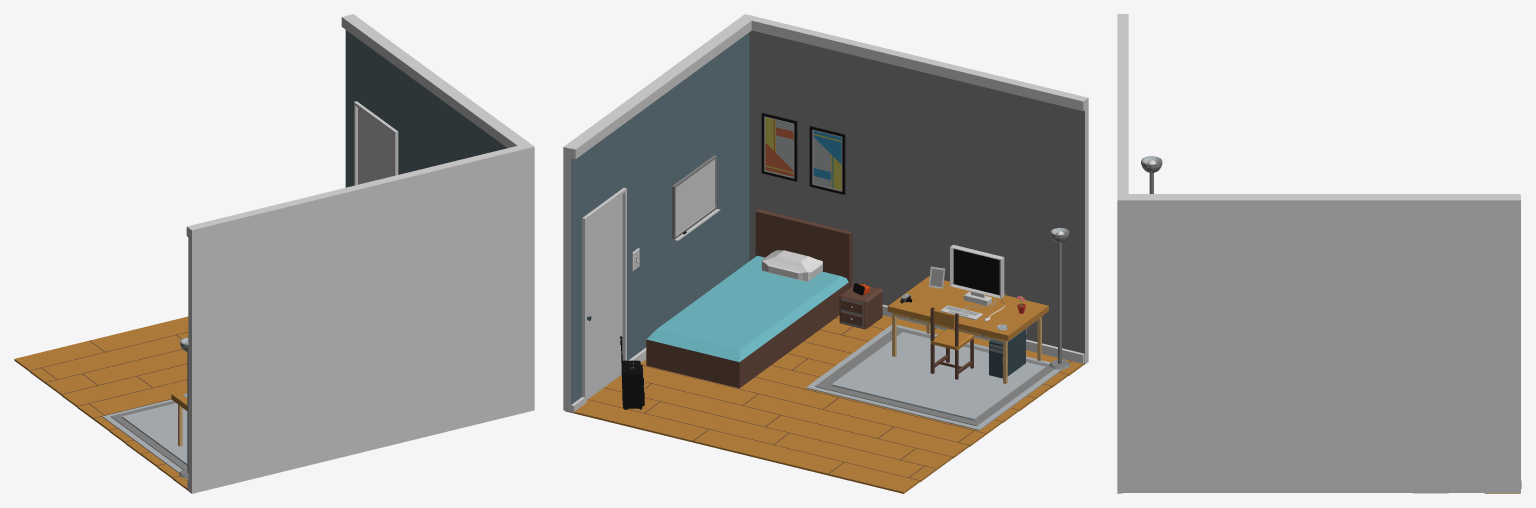
Rendered from room.glb.
3 views of the same model, side by side, from view 1: azimuth 30°, elevation 25°; view 2: azimuth 150°, elevation 25°; view 3: azimuth 270°, elevation 25° (orthographic). The views are drawn at different scales.
Parts seen in each view (by area): view 1: node_MeshObject-590880576-PolyPaper22, node_MeshObject-406843712-PolyPaper23, node_MeshObject-434685888-PolyPaper23; view 2: node_MeshObject-590880576-PolyPaper22, node_MeshObject-406843712-PolyPaper23, node_MeshObject-434685888-PolyPaper23, node_MeshObject111876352-PolyPaper22, node_MeshObject-519227392-PolyGlass24; view 3: node_MeshObject-590880576-PolyPaper22, node_MeshObject-406843712-PolyPaper23.
Part boxes in pixels (bbox=[...]): node_MeshObject-590880576-PolyPaper22: bbox=[188, 14, 534, 493]; node_MeshObject-406843712-PolyPaper23: bbox=[14, 16, 523, 490]; node_MeshObject-434685888-PolyPaper23: bbox=[179, 101, 398, 478]; node_MeshObject-590880576-PolyPaper22: bbox=[563, 14, 1088, 411]; node_MeshObject-406843712-PolyPaper23: bbox=[565, 18, 1084, 493]; node_MeshObject-434685888-PolyPaper23: bbox=[582, 187, 1070, 409]; node_MeshObject111876352-PolyPaper22: bbox=[862, 276, 1048, 383]; node_MeshObject-519227392-PolyGlass24: bbox=[764, 116, 1003, 327]; node_MeshObject-590880576-PolyPaper22: bbox=[1117, 14, 1520, 493]; node_MeshObject-406843712-PolyPaper23: bbox=[1124, 14, 1521, 493].
Bounding box in the file's own units: 4.04 × 2.97 × 3.71.
